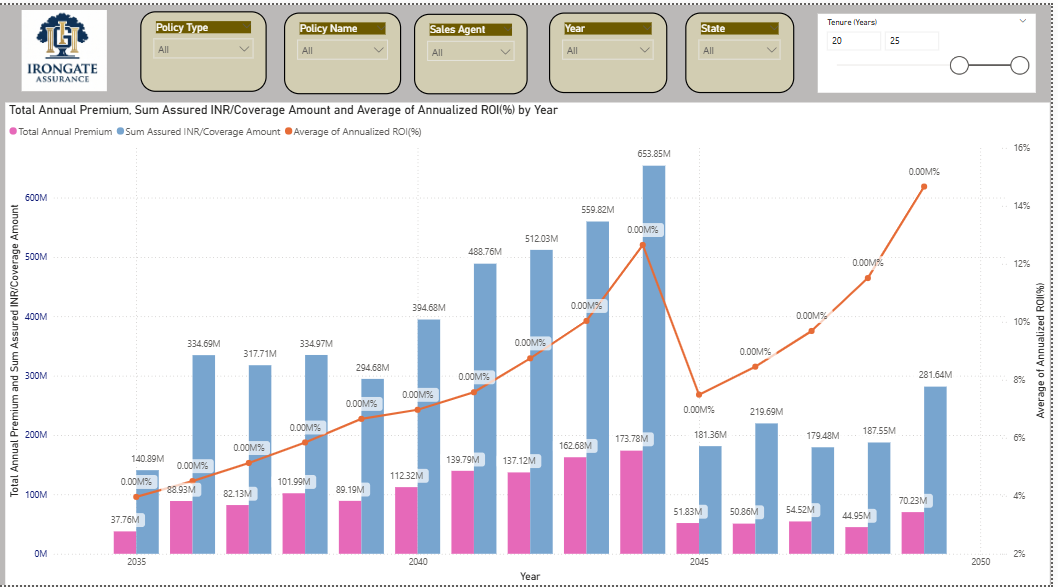

This screenshot's page, from the dashboard's own definition file:
{"tool":"powerbi","page":{"name":"Annual Premium Vs Protection Value","canvas":[1450,800],"ordinal":3},"visuals":[{"type":"image","box":[0,7.7,180,112.3],"z":0},{"type":"slicer","fields":{"Values":["DM Policy_Type.Policy Type"]},"box":[194.3,8.6,174.3,111.4],"z":1000},{"type":"slicer","fields":{"Values":["DM Policy_Protection_Plan.Policy Name"]},"box":[392.9,10,161.4,112.9],"z":2000},{"type":"slicer","fields":{"Values":["DM Insurance_Agent_Table.Sales Agent"]},"box":[572.9,11.4,157.1,111.4],"z":3000},{"type":"slicer","fields":{"Values":["FCT Insurance_Policy_Table.Date of Purchase.Variation.Date Hierarchy.Year"]},"box":[758.6,10,162.9,111.4],"z":4000},{"type":"slicer","fields":{"Values":["DM Customer_Detail_Table (2).State"]},"box":[947.1,10,150,111.4],"z":5000},{"type":"lineClusteredColumnComboChart","fields":{"Y2":["Avg(FCT Insurance_Policy_Table.Annualized ROI(%))"],"Y":["Sum(FCT Insurance_Policy_Table.Total Annual Premium)","Sum(FCT Insurance_Policy_Table.Sum Assured INR/Coverage Amount)"],"Category":["FCT Insurance_Policy_Table.Tenure Date.Variation.Date Hierarchy.Year","FCT Insurance_Policy_Table.Tenure Date.Variation.Date Hierarchy.Quarter","FCT Insurance_Policy_Table.Tenure Date.Variation.Date Hierarchy.Month","FCT Insurance_Policy_Table.Tenure Date.Variation.Date Hierarchy.Day"]},"box":[9.5,133.8,1440.5,666.2],"z":6000},{"type":"slicer","fields":{"Values":["FCT Insurance_Policy_Table.Tenure (Years)"]},"box":[1128.6,11.4,300,108.6],"z":7000}]}

Visuals, with their boxes in screenshot pixels (x1, y1, x2, y2), scaled from the page's 1450x800 canvas onto the 1058x587 screenshot:
image: [0, 6, 131, 88]
slicer - DM Policy_Type.Policy Type: [142, 6, 269, 88]
slicer - DM Policy_Protection_Plan.Policy Name: [287, 7, 404, 90]
slicer - DM Insurance_Agent_Table.Sales Agent: [418, 8, 533, 90]
slicer - FCT Insurance_Policy_Table.Date of Purchase.Variation.Date Hierarchy.Year: [554, 7, 672, 89]
slicer - DM Customer_Detail_Table (2).State: [691, 7, 801, 89]
lineClusteredColumnComboChart - Avg(FCT Insurance_Policy_Table.Annualized ROI(%)) x Sum(FCT Insurance_Policy_Table.Total Annual Premium): [7, 98, 1057, 586]
slicer - FCT Insurance_Policy_Table.Tenure (Years): [823, 8, 1042, 88]
